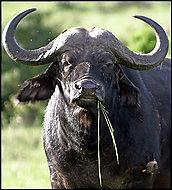Buffalo: (0, 3, 163, 190)
